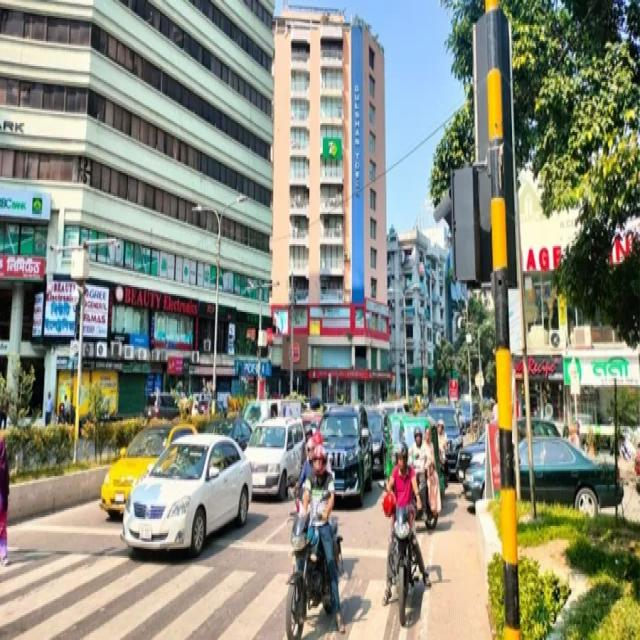bike: (277, 499, 331, 632), (384, 499, 427, 619)
car: (127, 429, 246, 561), (467, 423, 629, 517), (317, 397, 375, 499), (241, 407, 309, 488)
